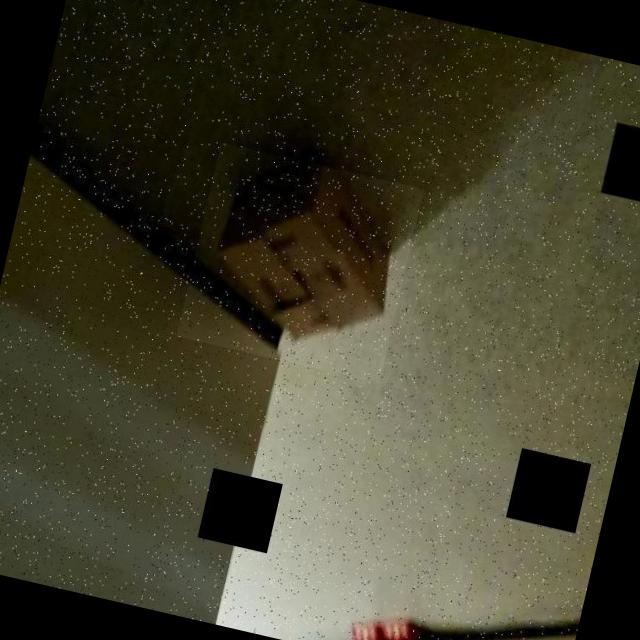box: (176, 142, 423, 383)
